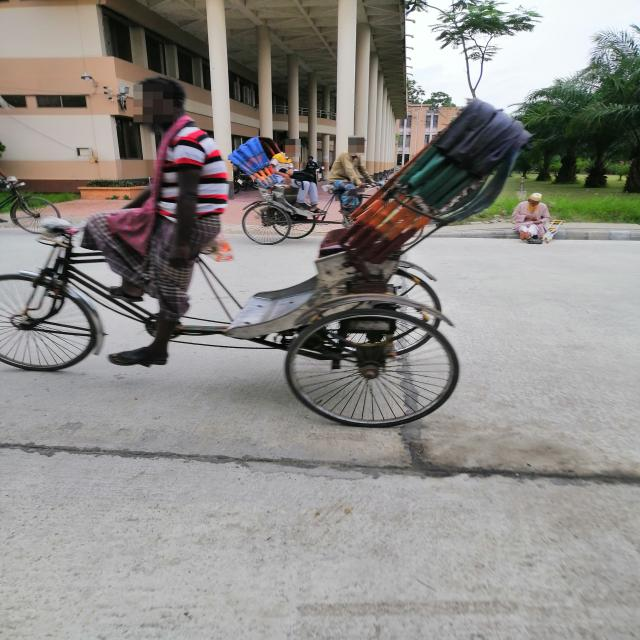Auto-Rickshaw: (1, 77, 553, 466), (199, 115, 460, 268)
